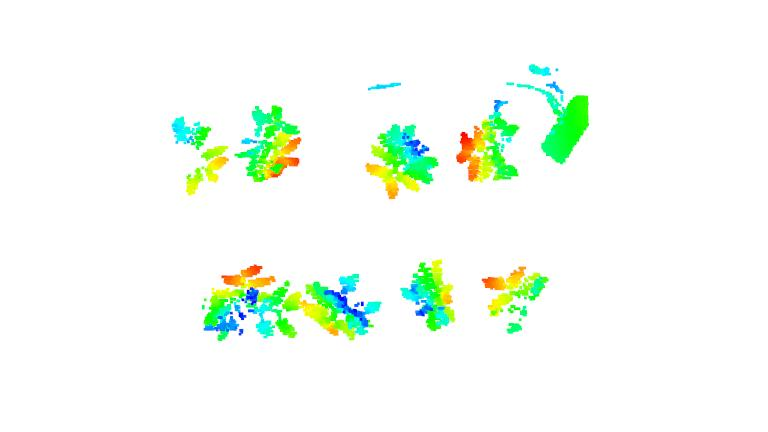chickpea: (200, 264, 301, 343), (232, 101, 307, 184), (366, 121, 440, 200), (302, 271, 384, 340), (452, 108, 520, 187), (479, 263, 551, 335), (168, 115, 229, 195), (401, 256, 458, 332)
